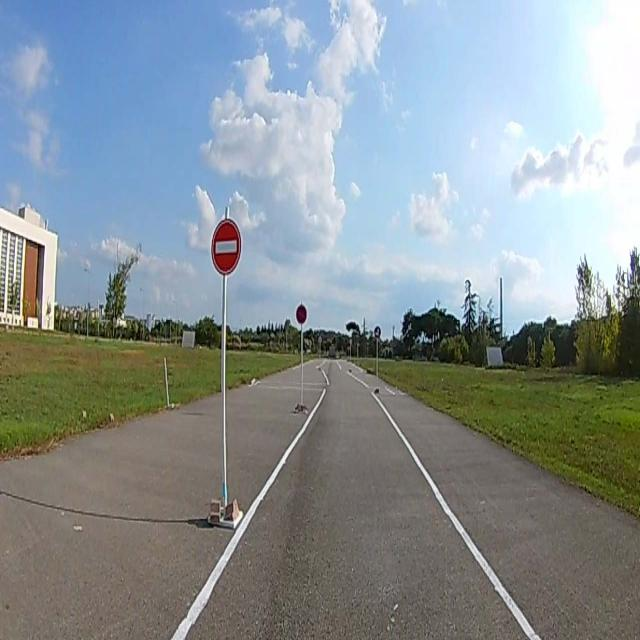girisyok: (209, 218, 239, 274)
